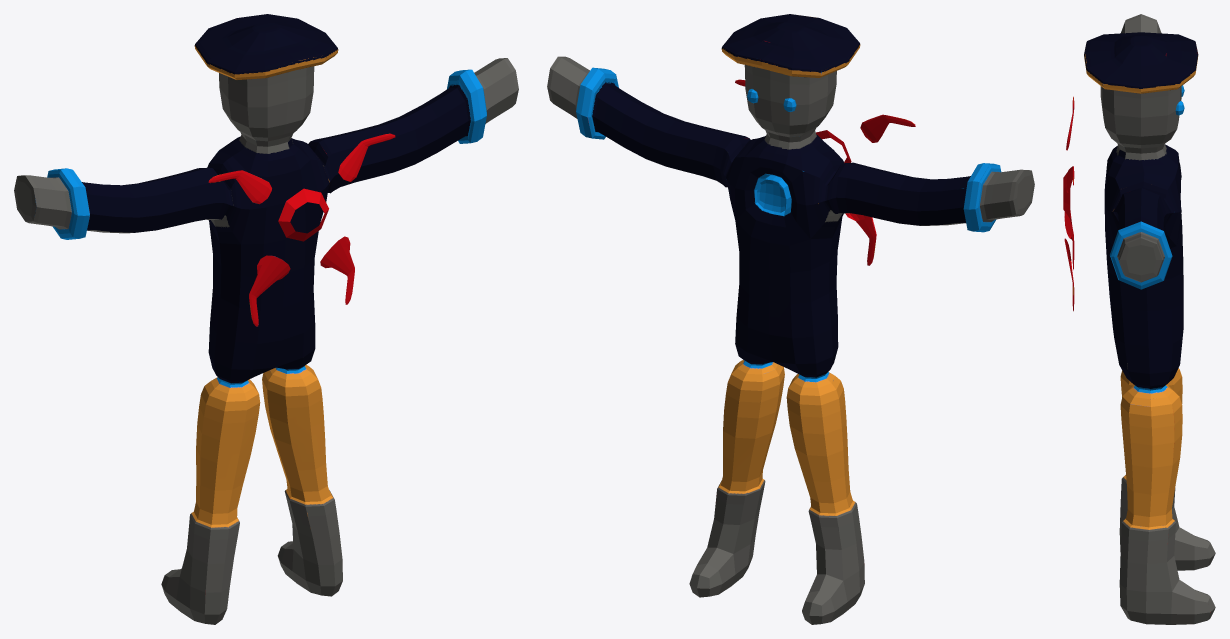
Rendered from dumbboy_sorrow_by_unknown_freaker.glb.
The picture shows the model from 3 angles, left to right: view 1: azimuth 30°, elevation 25°; view 2: azimuth 150°, elevation 25°; view 3: azimuth 270°, elevation 25°; orthographic projection. The views are drawn at different scales.
Visible parts, largest first — view 1: Dumb Player; view 2: Dumb Player; view 3: Dumb Player.
Boxes of the visible parts, <box> form: Dumb Player: <box>14,14,518,624</box>; Dumb Player: <box>547,14,1034,624</box>; Dumb Player: <box>1063,14,1215,624</box>.
Size of the model in its own units: 14.35 by 16.57 by 4.12.
Materials: 1 (1 with a texture image).
